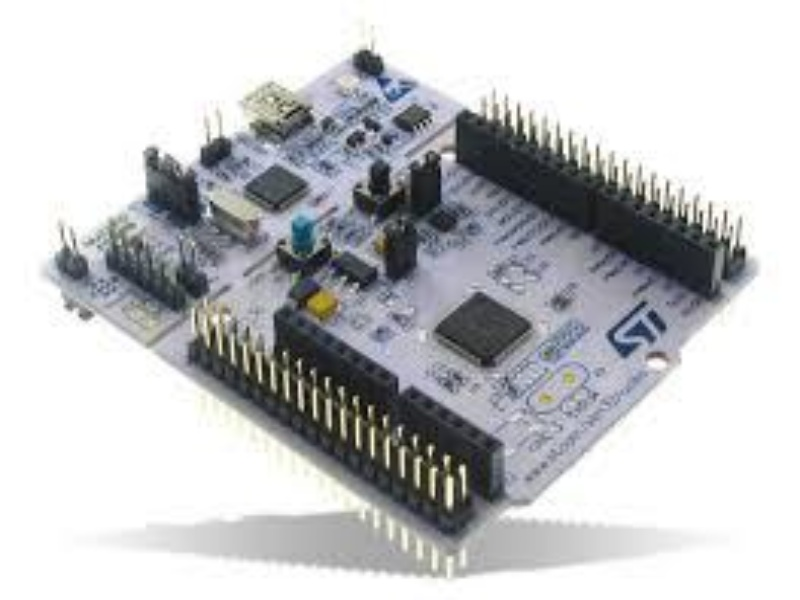stmnucleo: (48, 14, 751, 530)
